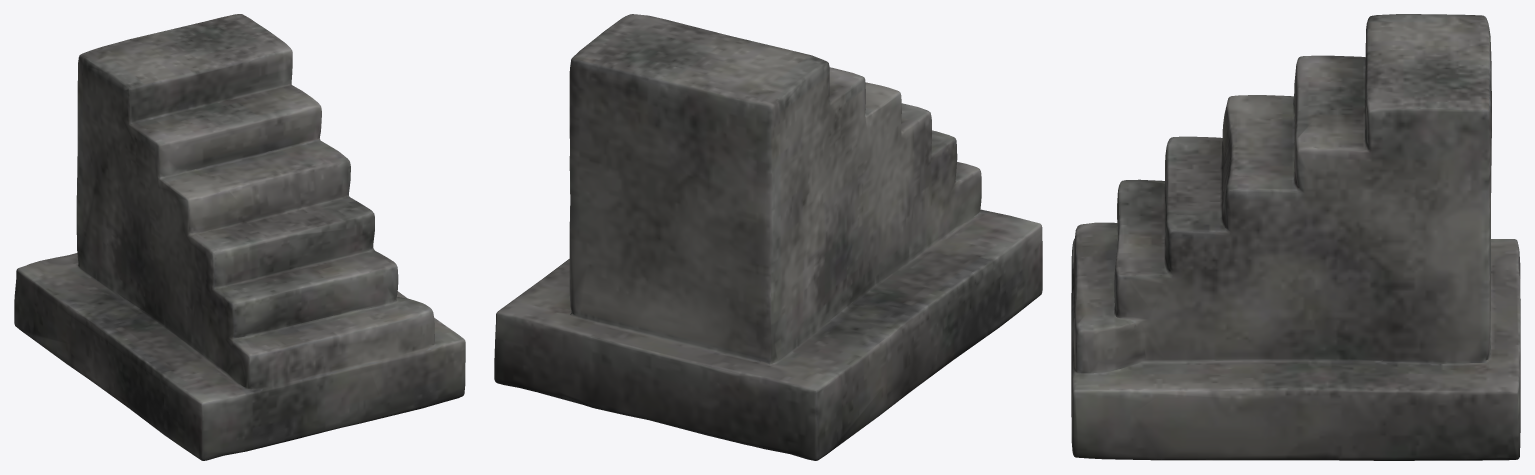
File: sturdy-granite-straight-staircase-v001.glb
3 renders of one model, left to right at view 1: azimuth 30°, elevation 25°; view 2: azimuth 150°, elevation 25°; view 3: azimuth 270°, elevation 25°, orthographic. The views are drawn at different scales.
Visible parts, largest first — view 1: sturdy-granite-straight-staircase; view 2: sturdy-granite-straight-staircase; view 3: sturdy-granite-straight-staircase.
Boxes of the visible parts, x1,y1,x2,y2 form: sturdy-granite-straight-staircase: (14, 14, 465, 460); sturdy-granite-straight-staircase: (494, 14, 1042, 460); sturdy-granite-straight-staircase: (1071, 14, 1520, 460).
Size of the model in its own units: 1.07 by 1.05 by 1.31.
1 material, 1 textured.
